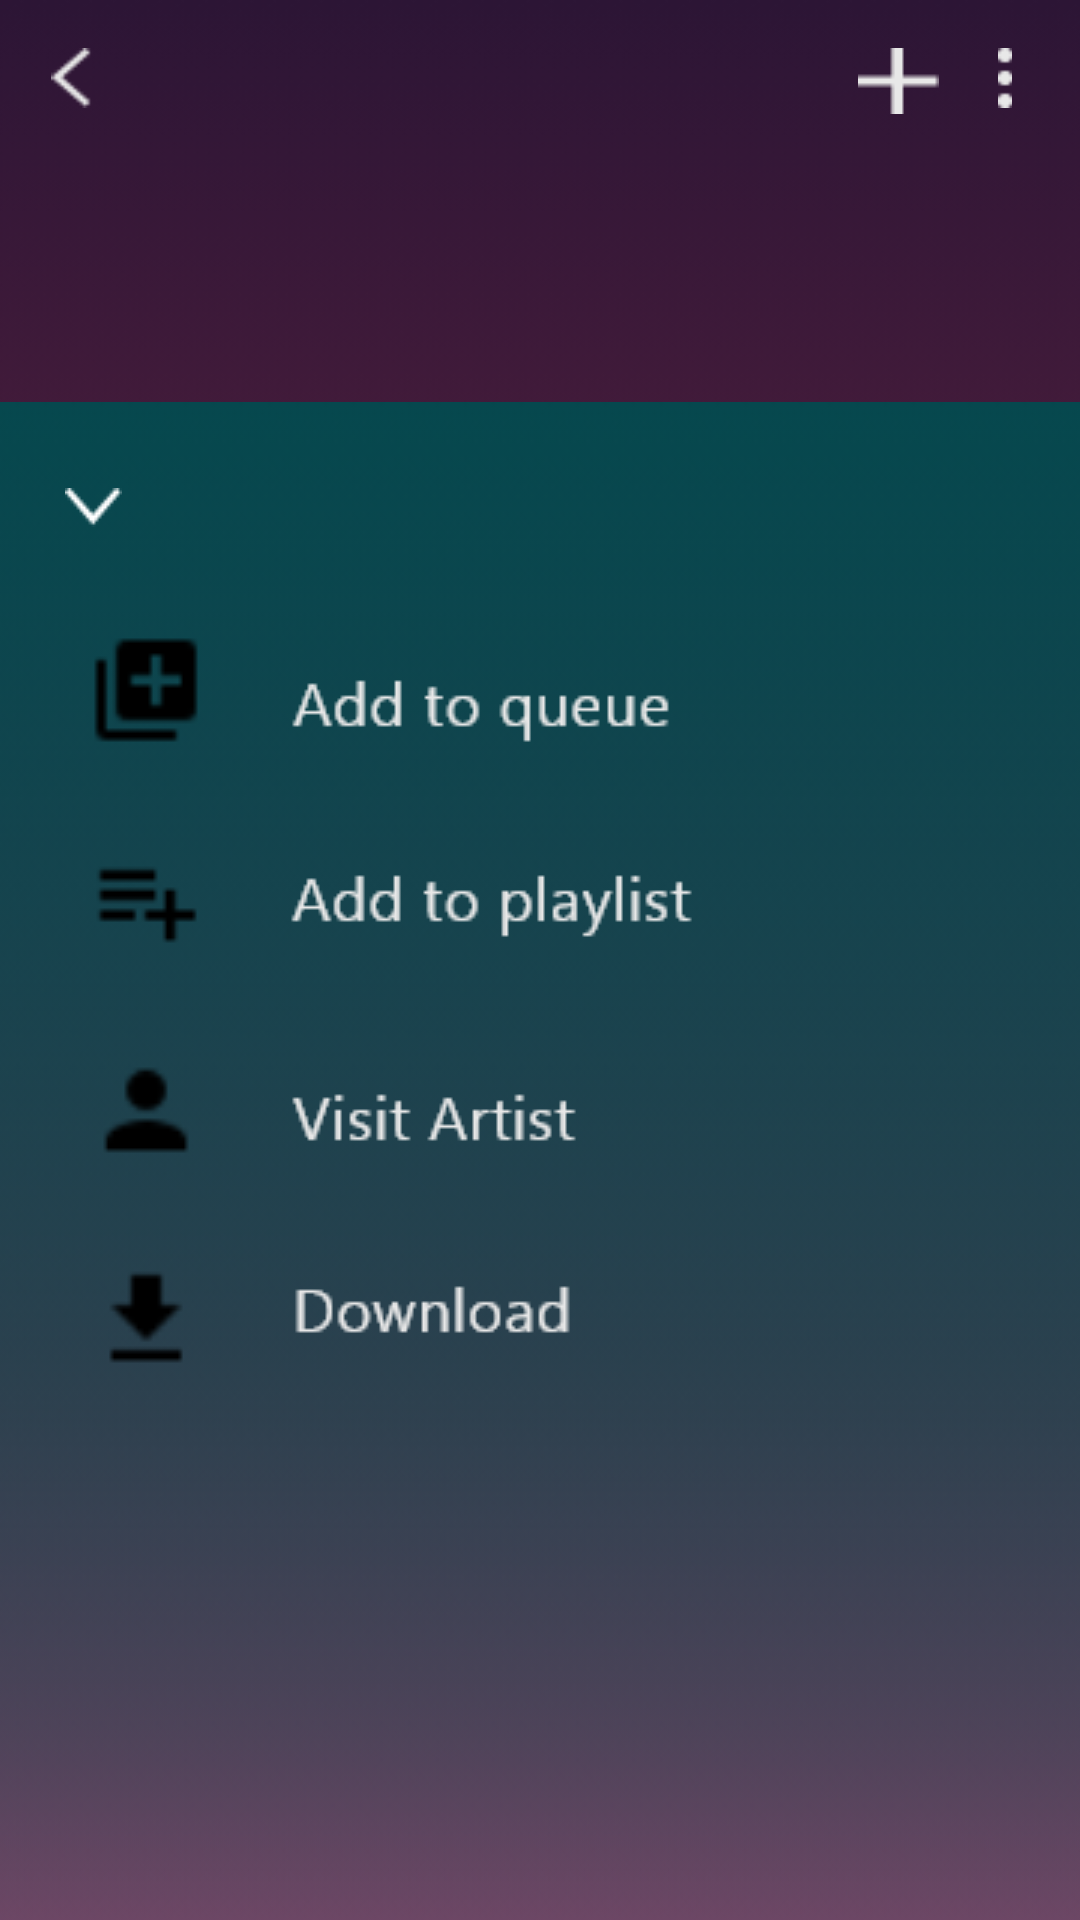

Named icons in this screenshot (1080px×1920px) and their centers, point (x, y):
add: point (898, 81)
back: point (71, 78)
down pointing arrow: point (93, 506)
three dots menu: point (1005, 78)
